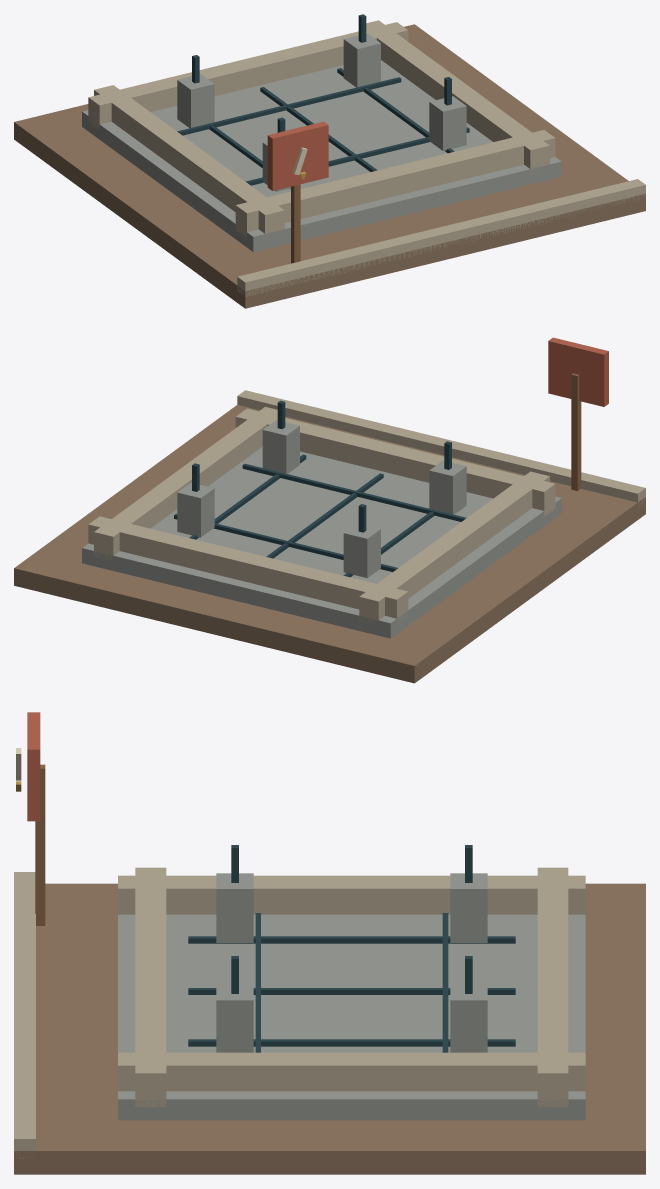
File: school-sunrise-foundation.glb
3 views of the same model, one above another, from view 1: azimuth 30°, elevation 25°; view 2: azimuth 150°, elevation 25°; view 3: azimuth 270°, elevation 25° (orthographic). The views are drawn at different scales.
Parts seen in each view (by area): view 1: school; view 2: school; view 3: school.
Boxes of the visible parts, x1,y1,x2,y2 form: school: [14, 14, 645, 308]; school: [14, 337, 645, 683]; school: [14, 712, 645, 1174].
Size of the model in its own units: 2.88 by 1.09 by 2.88.
